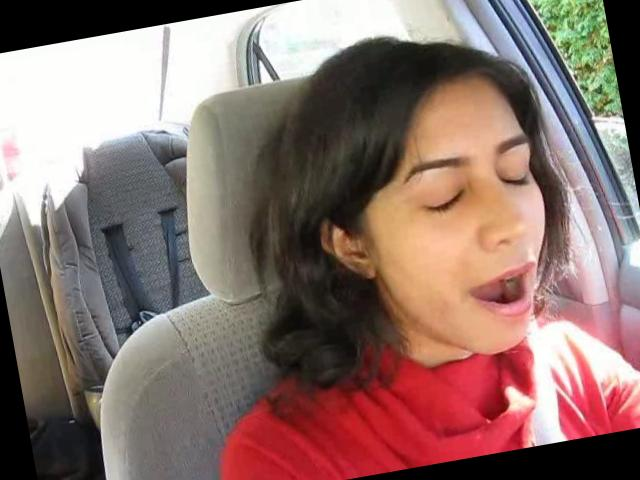eye_closed: (414, 176, 480, 228), (498, 154, 542, 198)
face: (352, 108, 576, 374)
mouth_open: (458, 253, 546, 328)
